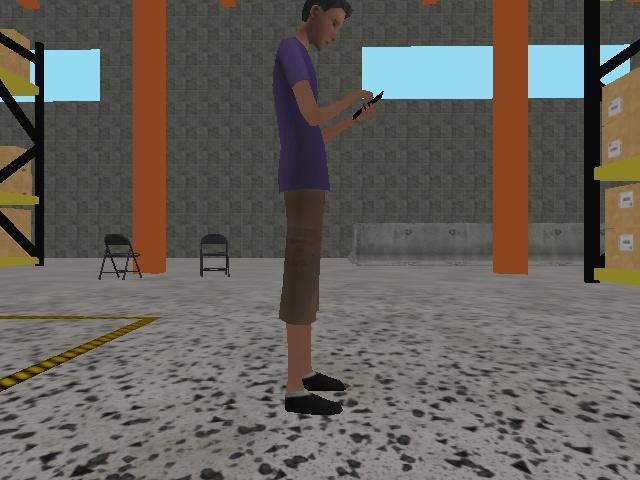chair: (96, 232, 144, 281), (198, 232, 232, 279)
person: (268, 1, 383, 421)
